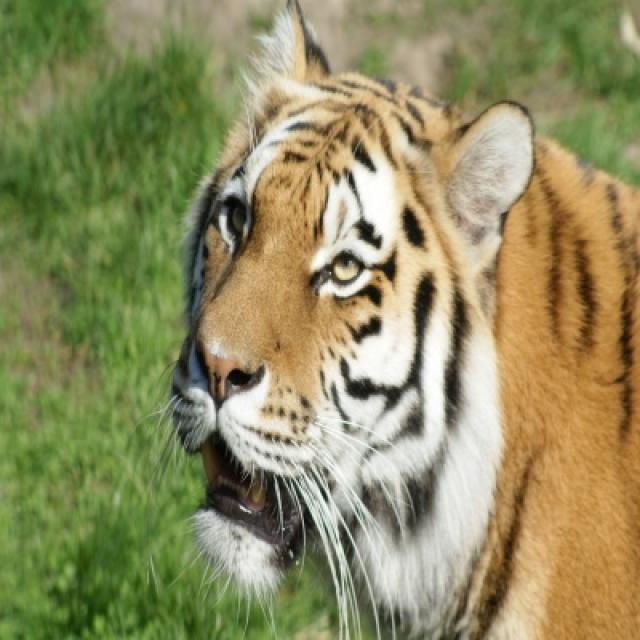Tiger: (164, 0, 638, 638)
